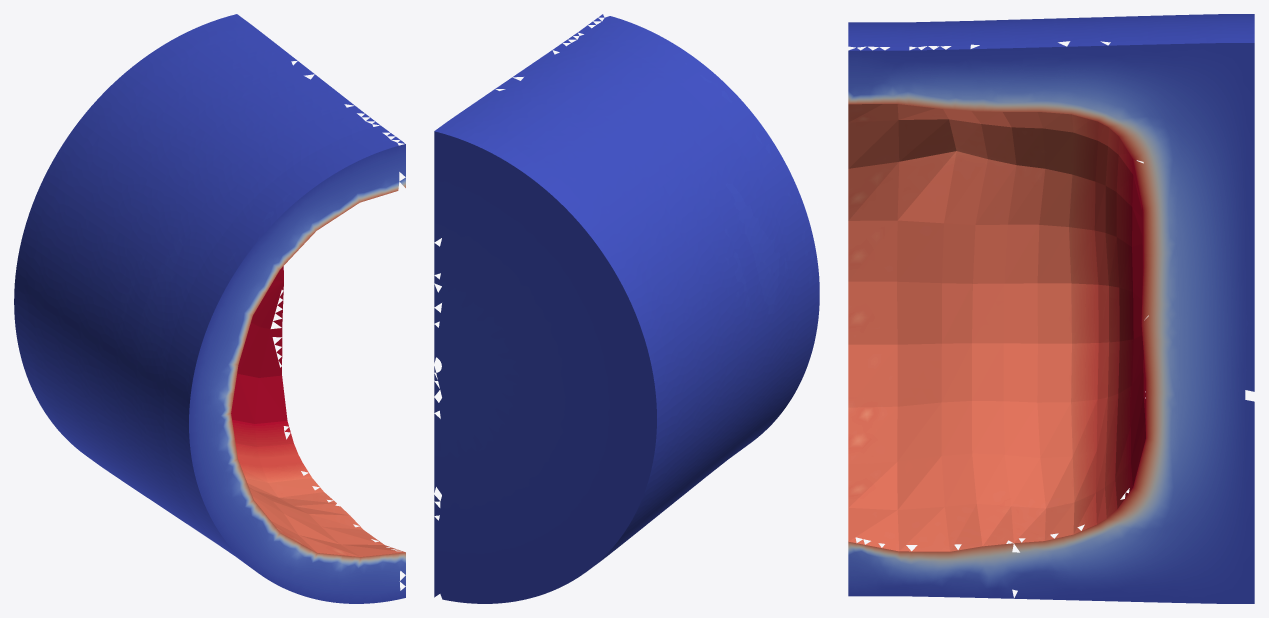
Rendered from vcut.glb.
3 views of the same model, side by side, from view 1: azimuth 30°, elevation 25°; view 2: azimuth 150°, elevation 25°; view 3: azimuth 270°, elevation 25° (orthographic). The views are drawn at different scales.
Parts seen in each view (by area): view 1: Renderer Node; view 2: Renderer Node; view 3: Renderer Node.
Part boxes in pixels (x1,y1,x2,y2): Renderer Node: (14, 14, 405, 603); Renderer Node: (434, 14, 819, 603); Renderer Node: (848, 14, 1254, 603).
Size of the model in its own units: 6.23 by 12.46 by 8.17.
1 material, 1 textured.
